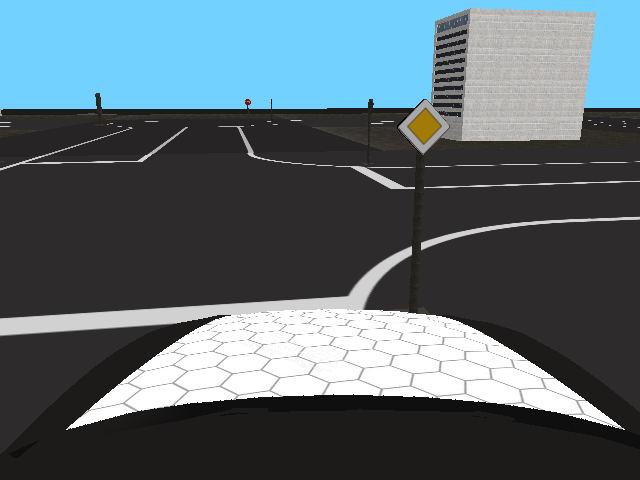priority: (397, 99, 450, 155)
